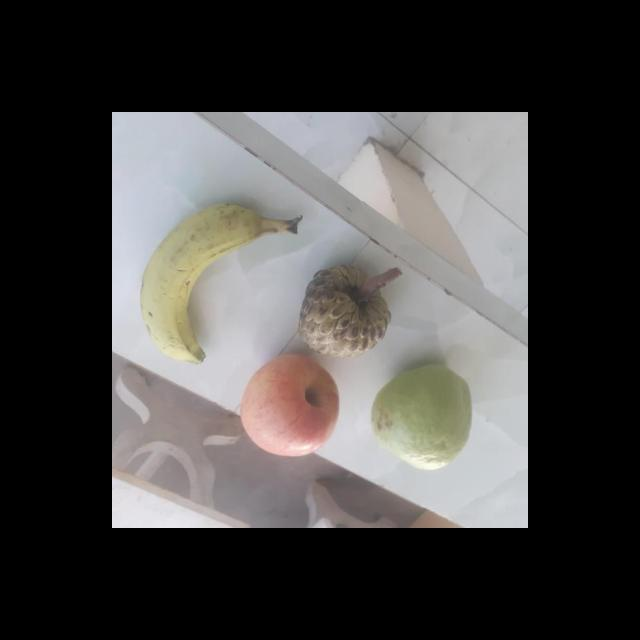Sakya fruit: (300, 262, 398, 358)
apple: (235, 358, 344, 458)
banana: (140, 201, 295, 366)
guava: (376, 364, 476, 468)
